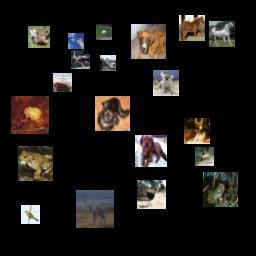bird: (137, 180, 166, 209), (71, 50, 90, 69), (21, 205, 40, 224), (68, 33, 84, 49), (96, 24, 112, 40)
deer: (76, 190, 114, 228), (195, 147, 214, 166)
dog: (95, 96, 130, 131), (131, 24, 166, 59), (135, 135, 167, 167), (184, 118, 210, 144), (153, 70, 179, 96)
frog: (11, 96, 49, 134), (18, 146, 53, 181), (203, 172, 238, 207), (28, 26, 50, 48)
ship: (53, 73, 72, 92)
truck: (100, 55, 116, 71)
